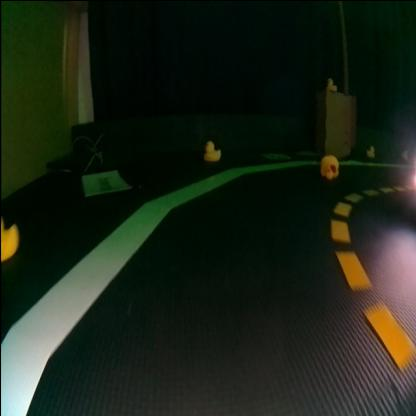Duckie: (2, 217, 18, 259), (322, 153, 338, 177), (204, 138, 219, 160), (326, 77, 336, 89), (366, 144, 372, 156)
QR code: (262, 150, 290, 158)
